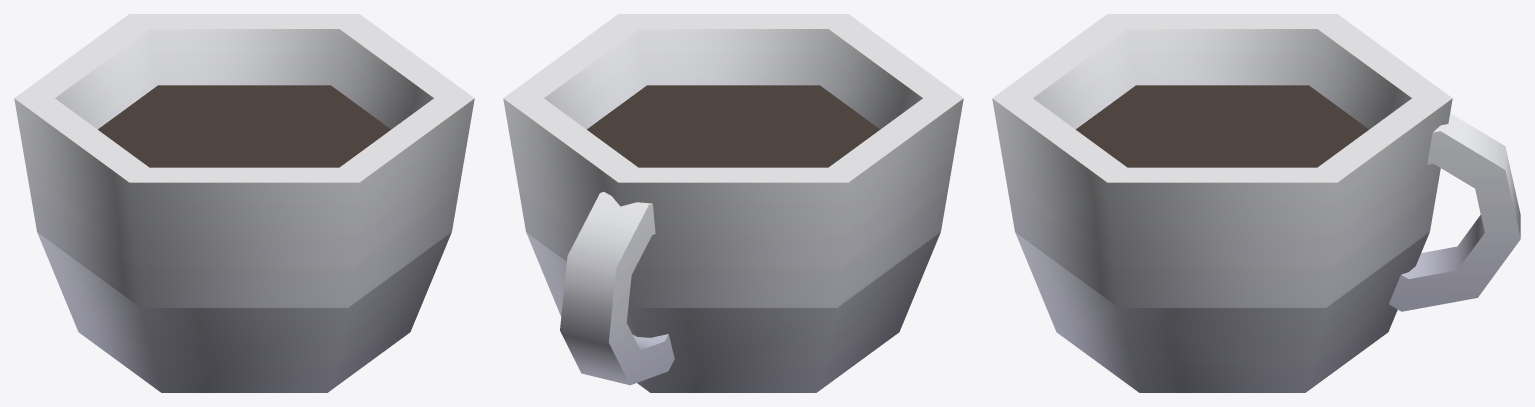
The model's file is food.cup_coffee.glb.
The picture shows the model from 3 angles, left to right: view 1: azimuth 30°, elevation 25°; view 2: azimuth 150°, elevation 25°; view 3: azimuth 270°, elevation 25°; orthographic projection.
Parts seen in each view (by area): view 1: cup-coffee; view 2: cup-coffee; view 3: cup-coffee.
Part boxes in pixels (x1=…): cup-coffee: x1=14, y1=14, x2=474, y2=392; cup-coffee: x1=503, y1=14, x2=963, y2=392; cup-coffee: x1=992, y1=14, x2=1520, y2=392.
Size of the model in its own units: 0.0642 by 0.0416 by 0.0851.
Materials: 1 (1 with a texture image).
